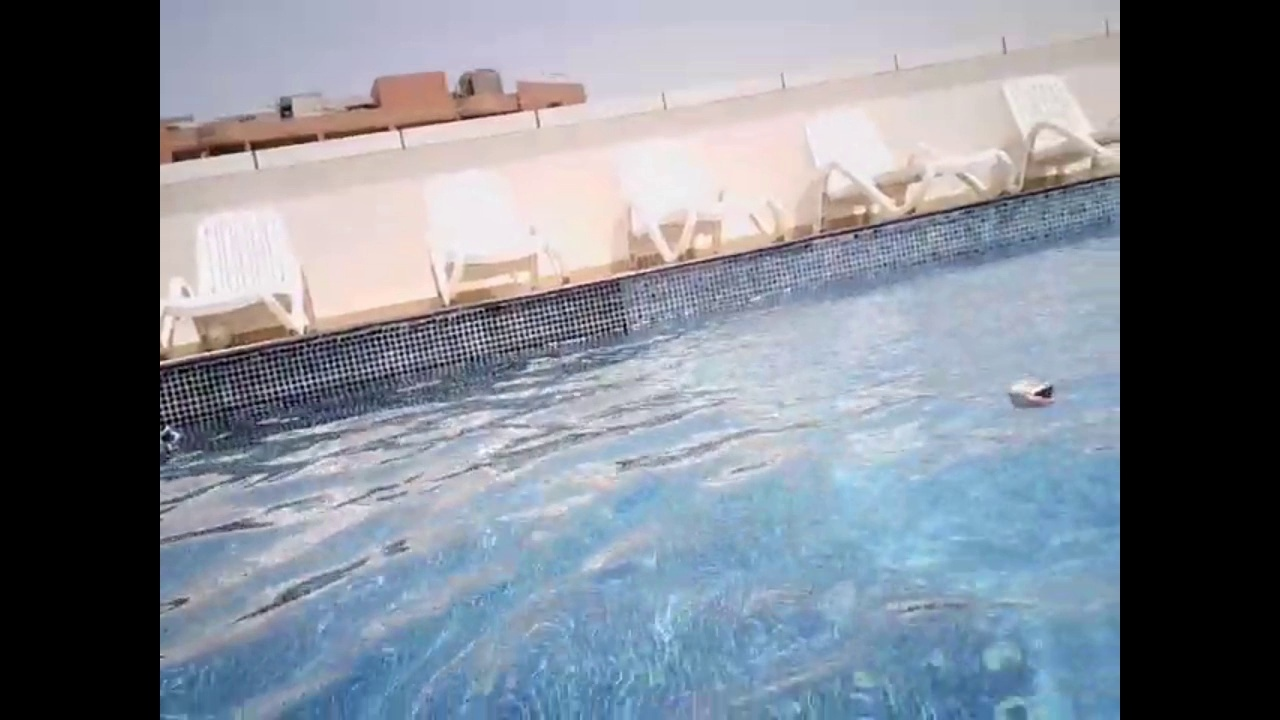debris: (1004, 372, 1058, 411), (159, 423, 180, 446)
